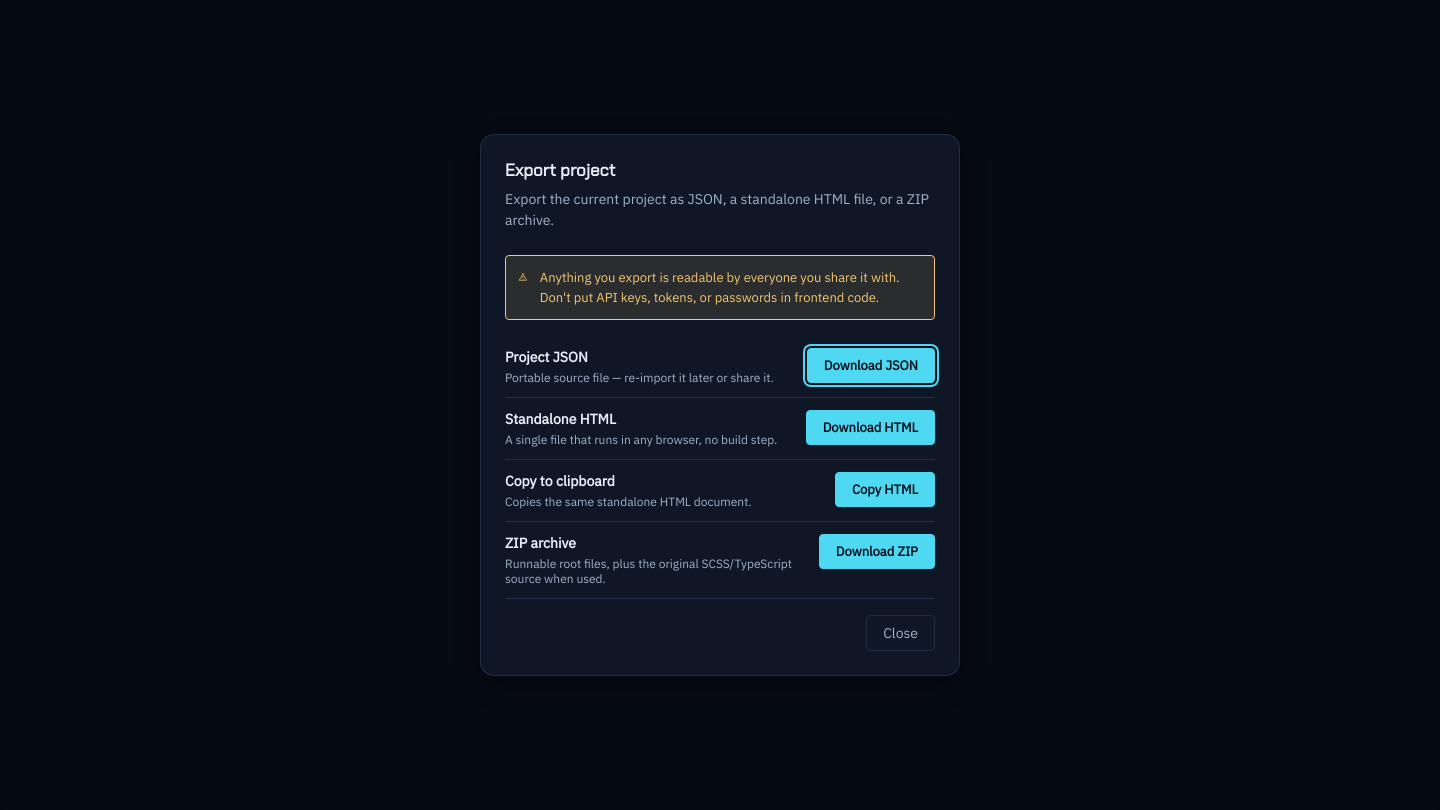
it: ExportDialog › copies standalone HTML to the clipboard when available
What coordinates should you click on to do the following:
click the button "Copy HTML"
I would click on:
 (885, 490)
Its box is [835, 472, 935, 507].
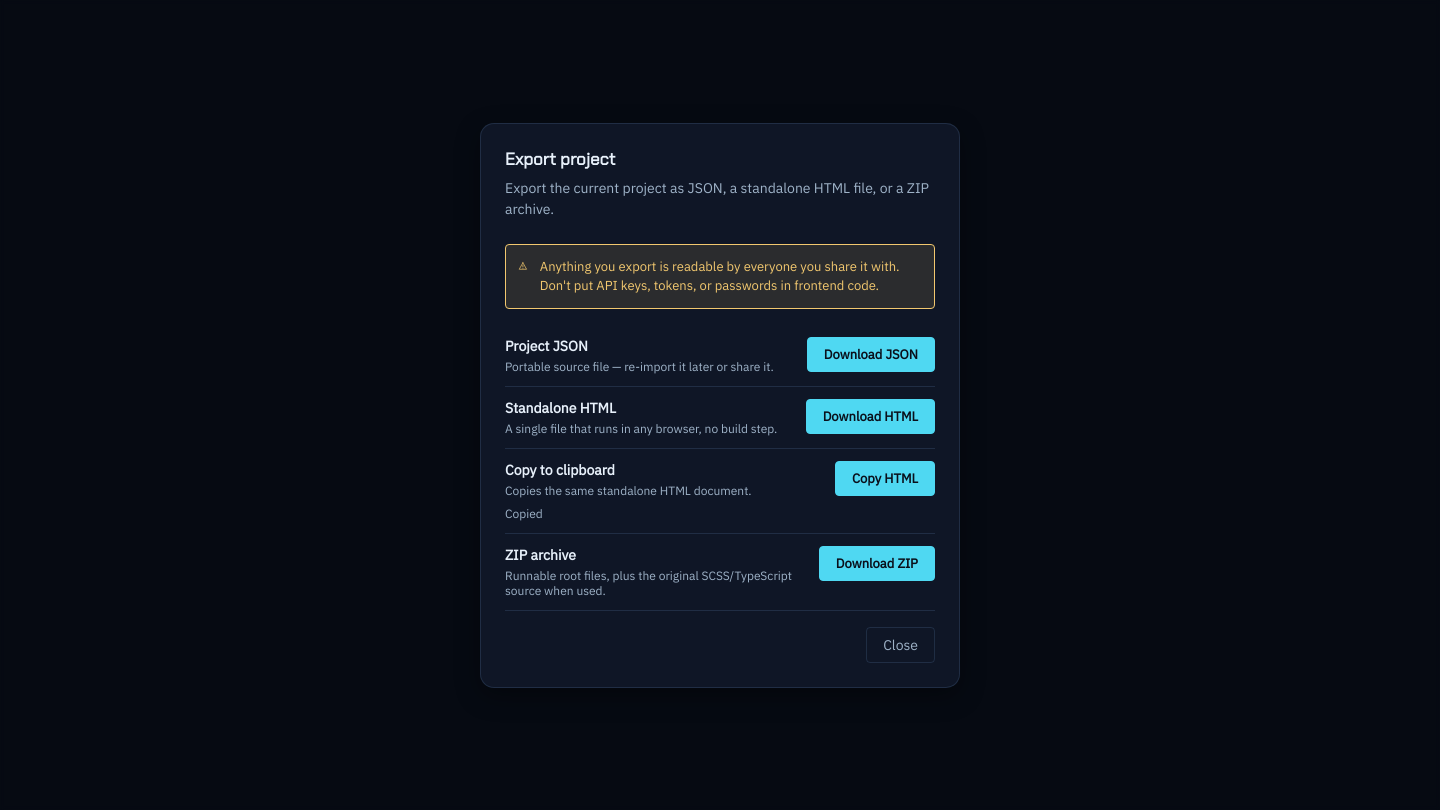
Now the text "Copied" is shown, box [505, 506, 543, 520]
